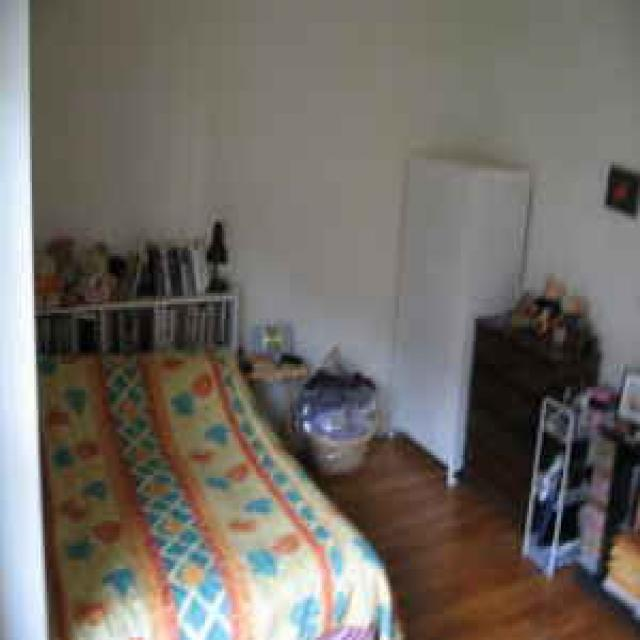basket crop: (292, 384, 373, 472)
bed -occluded-: (34, 341, 399, 634)
books crop: (141, 233, 207, 290)
closet crop: (388, 145, 529, 481)
floor -X: (45, 418, 636, 637)
picture crop: (606, 162, 634, 213)
selves: (521, 378, 621, 569)
shelf crop: (41, 290, 235, 356)
tallboy: (465, 296, 599, 526)
wall clock: (32, 0, 446, 421), (418, 0, 634, 614), (2, 0, 47, 637)
